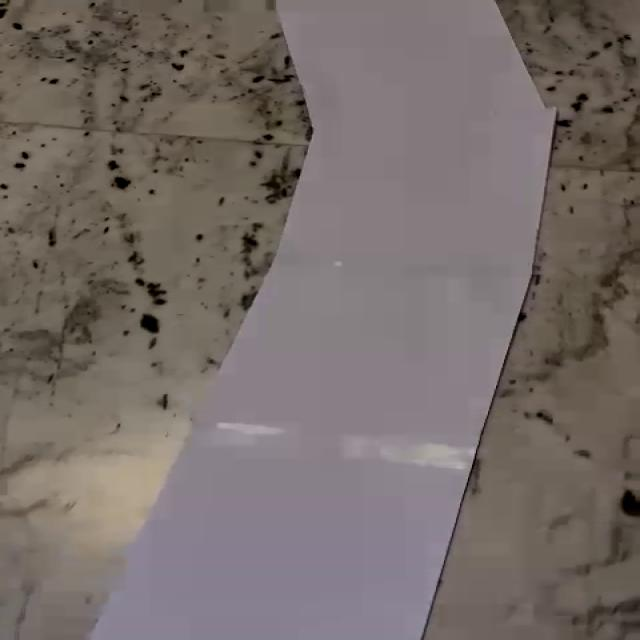road: (88, 0, 557, 640)
